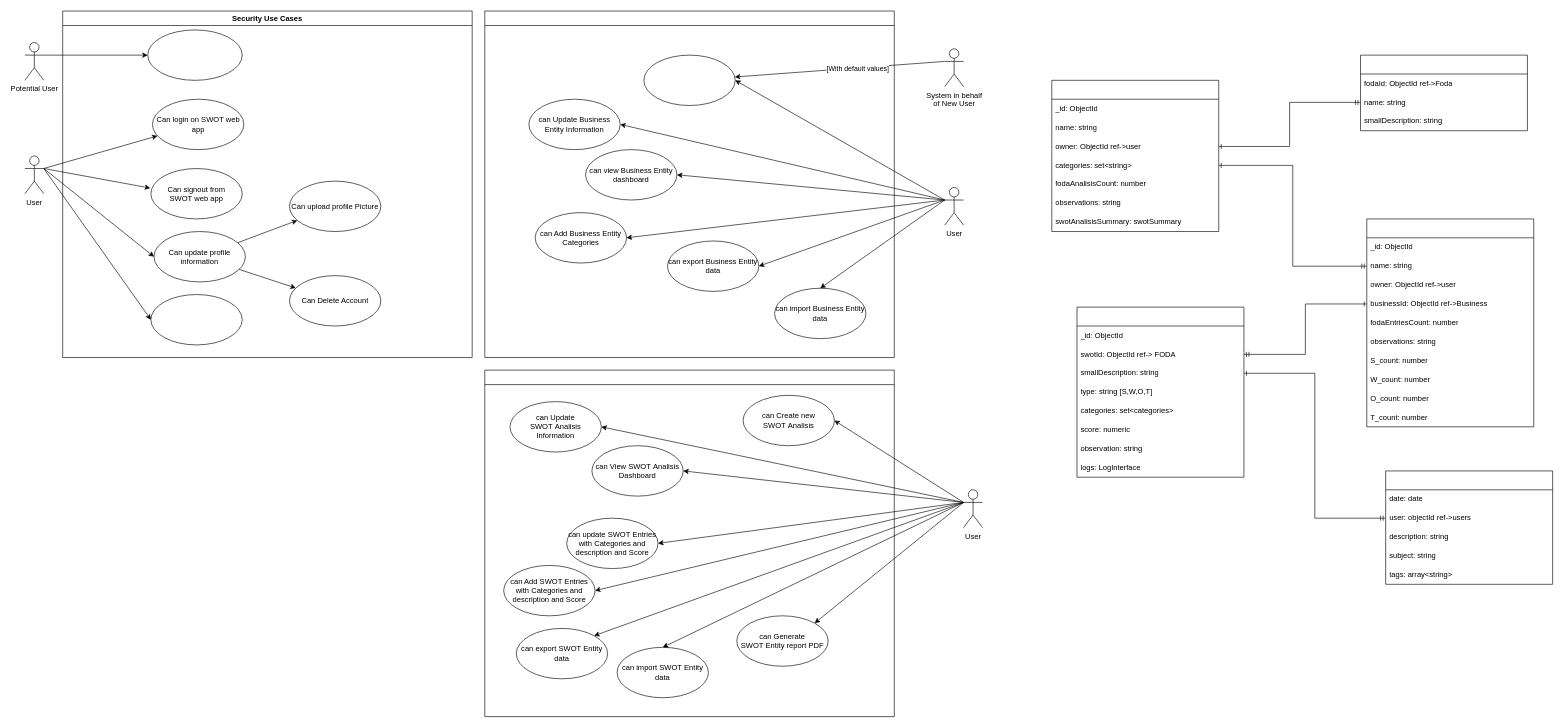
The diagram is 1564 pixels wide and 728 high, and some of its shapes have lost their labels. The box of each missing label's shape, as (x1, y1, x2, y2) in pixels:
Business Entity: (1051, 80, 1219, 232)
Business Entity Use Cases: (484, 10, 894, 358)
Can create an Account in SWOT app: (147, 29, 242, 80)
can Create new Business Entity: (643, 54, 735, 106)
Can invite new Potential users: (150, 294, 242, 345)
Log <<interface>>: (1385, 470, 1553, 584)
SWOT Entity: (1366, 218, 1534, 427)
SWOT Entity Use Cases (Scope of one Business Entity): (484, 369, 894, 717)
SWOT Entry: (1076, 306, 1244, 477)
SWOT Summary <<interface>>: (1360, 54, 1527, 131)
